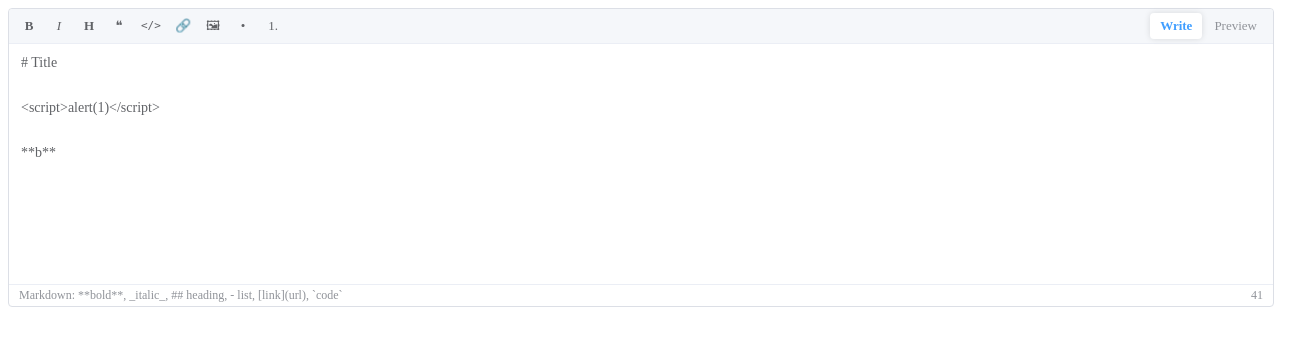
it: MarkdownEditor › preview renders sanitised markdown and disables the tools
The width and height of the screenshot is (1292, 356).
Click the tab with class "md-editor__mode" showing "Preview". click: (1236, 26)
box: [1204, 13, 1267, 39]
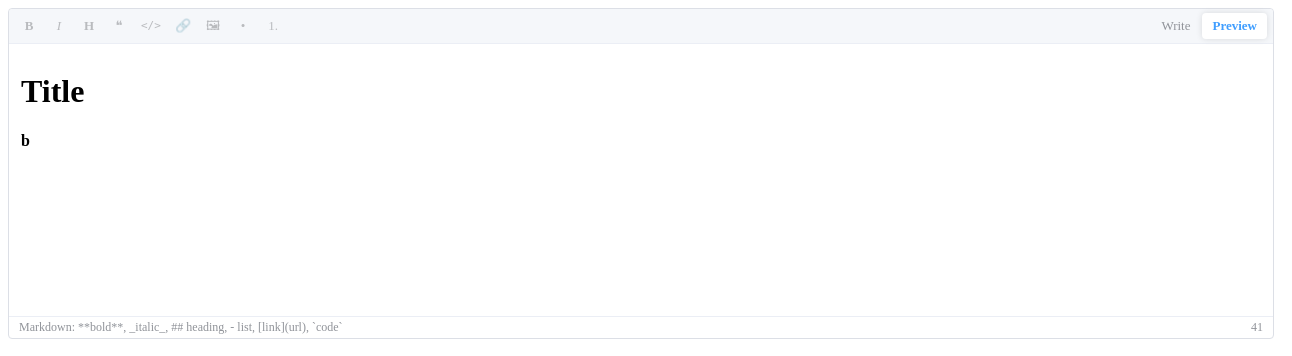
Check: the heading "Title" is shown, box [21, 73, 84, 109]
Check: the text "b" is shown, box [21, 132, 30, 149]
Check: the button with class "md-editor__tool--md_bold" is disabled, box [15, 13, 43, 39]
